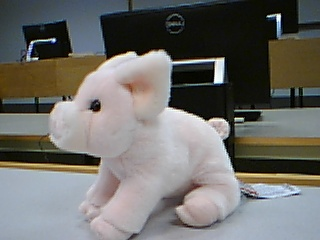piggy: (47, 47, 244, 240)
